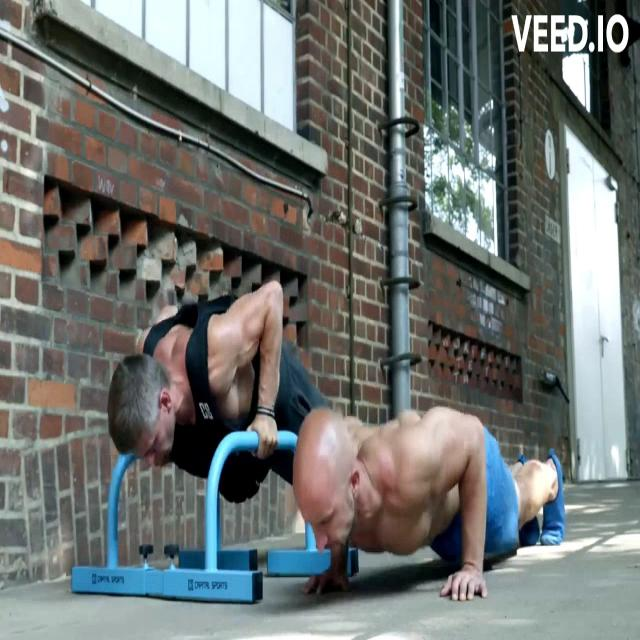Push up: (290, 379, 582, 621), (76, 251, 287, 517)
